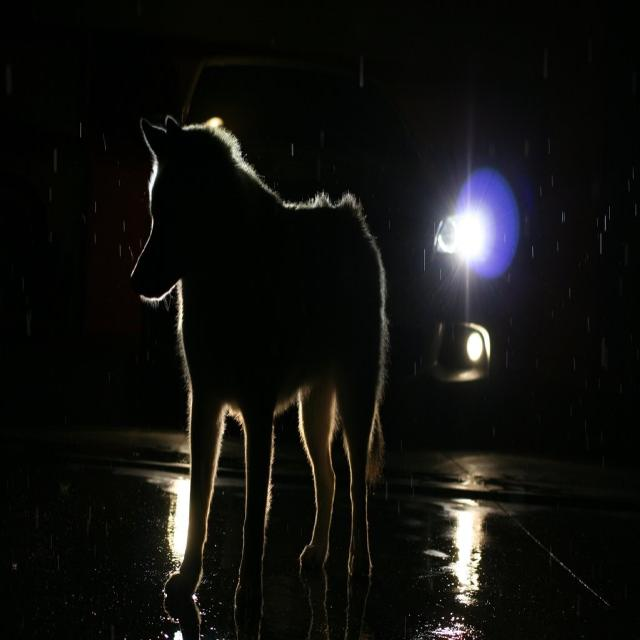dog: (127, 104, 424, 617)
